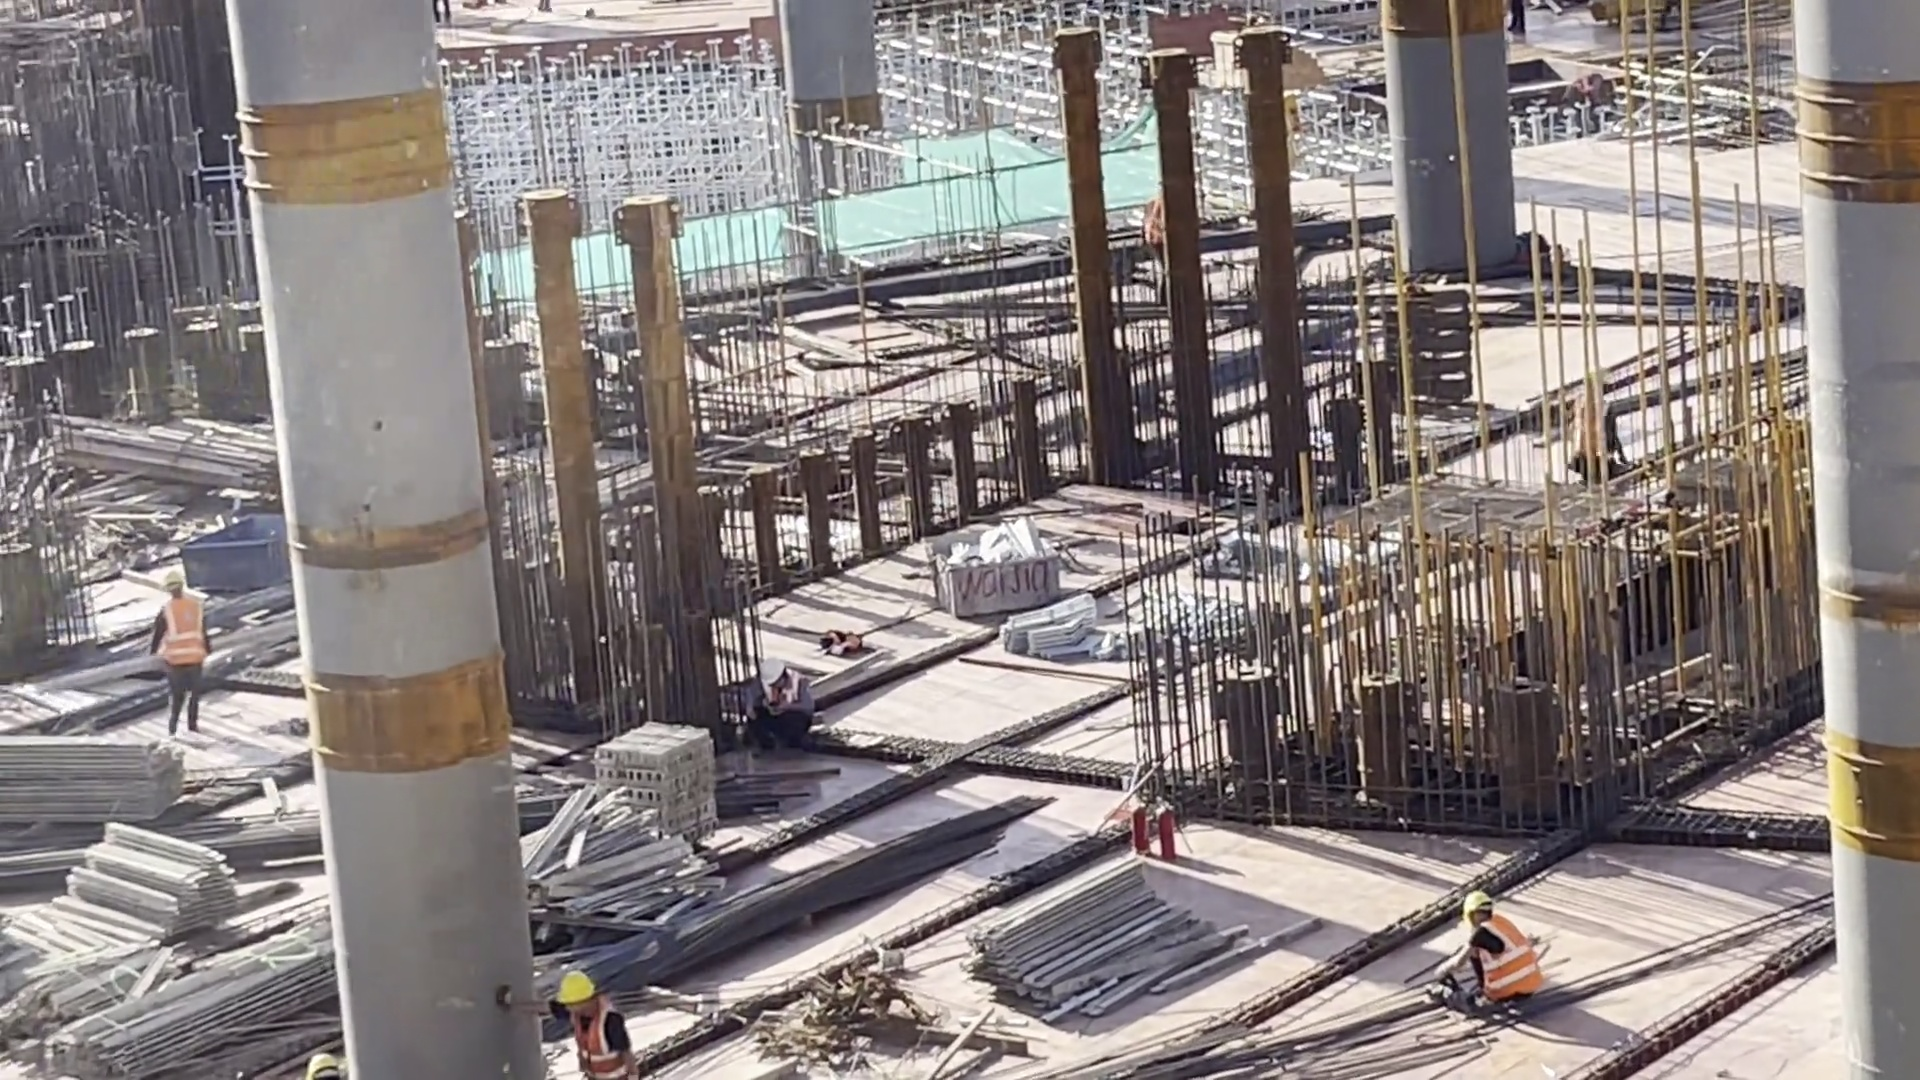helmet: (551, 971, 595, 1011), (1454, 879, 1499, 917), (755, 656, 789, 687), (162, 567, 189, 594)
hopper: (923, 511, 1071, 627), (181, 498, 293, 601)
person: (1436, 886, 1564, 1013), (151, 545, 229, 748), (530, 961, 635, 1080), (736, 652, 821, 749)
vest: (1467, 909, 1541, 1000), (563, 1006, 630, 1075), (160, 597, 206, 671)
wood: (37, 937, 352, 1080), (978, 856, 1236, 1015), (62, 809, 240, 942), (1, 717, 188, 839)
